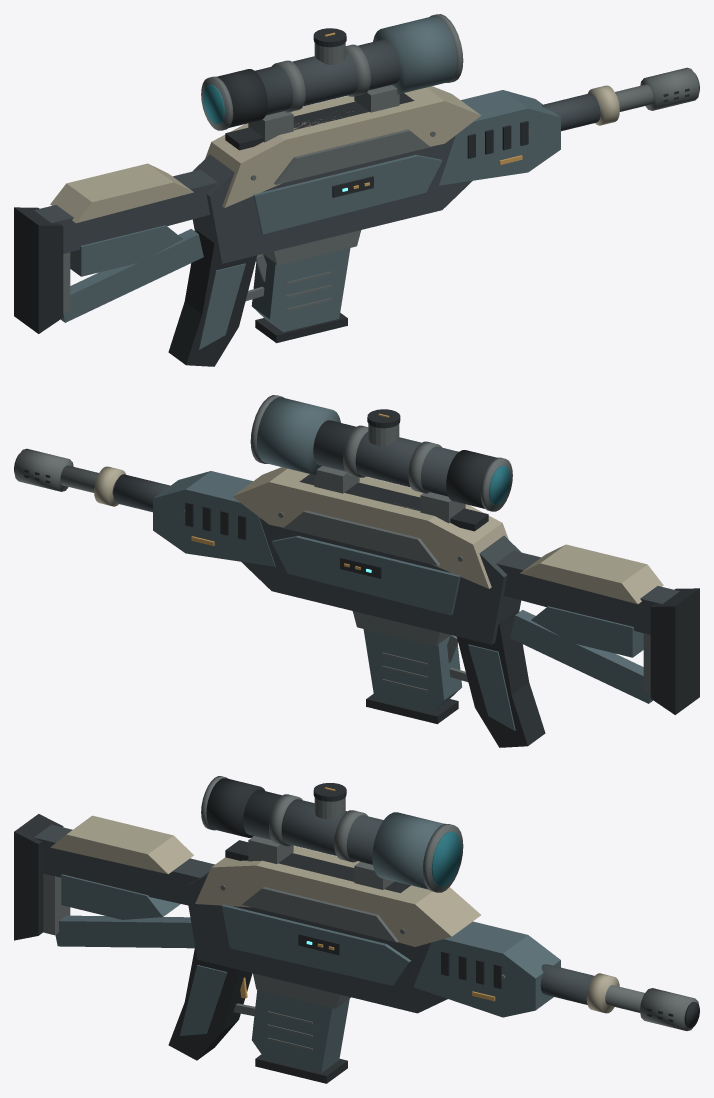
File: scifi_sniper_concept.glb
3 views of the same model, one above another, from view 1: azimuth 30°, elevation 25°; view 2: azimuth 150°, elevation 25°; view 3: azimuth 330°, elevation 25° (orthographic).
Visible parts, largest first — view 1: Upper armor / swept top, Chassis / primary receiver, Forward shroud, Receiver side panel -1, Butt pad, Magazine, Scope / central housing, Stock main beam, Pistol grip, Stock cheek rest, Scope / objective bell, Stock lower rail (+18 smaller); view 2: Upper armor / swept top, Chassis / primary receiver, Forward shroud, Receiver side panel 1, Butt pad, Magazine, Scope / central housing, Stock main beam, Pistol grip, Stock cheek rest, Scope / objective bell, Stock lower rail (+18 smaller); view 3: Upper armor / swept top, Forward shroud, Chassis / primary receiver, Receiver side panel -1, Magazine, Stock main beam, Scope / central housing, Stock cheek rest, Stock lower rail, Scope / objective bell, Butt pad, Angular cheek strip -1 (+21 smaller).
Boxes of the visible parts, x1,y1,x2,y2 form: Upper armor / swept top: [205, 86, 481, 207]; Chassis / primary receiver: [192, 136, 472, 263]; Forward shroud: [438, 90, 560, 185]; Receiver side panel -1: [253, 154, 442, 234]; Butt pad: [14, 207, 63, 333]; Magazine: [251, 248, 350, 332]; Scope / central housing: [255, 39, 400, 115]; Stock main beam: [34, 169, 217, 253]; Pistol grip: [168, 230, 257, 366]; Stock cheek rest: [50, 163, 193, 223]; Scope / objective bell: [373, 16, 456, 94]; Stock lower rail: [61, 229, 203, 322]; Upper armor / swept top: [232, 467, 508, 588]; Chassis / primary receiver: [241, 517, 521, 644]; Forward shroud: [153, 471, 275, 566]; Receiver side panel 1: [271, 535, 460, 615]; Butt pad: [650, 588, 699, 714]; Magazine: [363, 629, 462, 713]; Scope / central housing: [313, 420, 458, 496]; Stock main beam: [496, 550, 679, 634]; Pistol grip: [456, 611, 545, 747]; Stock cheek rest: [520, 544, 663, 604]; Scope / objective bell: [257, 397, 340, 475]; Stock lower rail: [510, 610, 652, 703]; Upper armor / swept top: [195, 846, 480, 946]; Forward shroud: [413, 921, 560, 1017]; Chassis / primary receiver: [185, 871, 447, 1013]; Receiver side panel -1: [222, 904, 410, 985]; Magazine: [251, 990, 349, 1073]; Stock main beam: [34, 824, 214, 905]; Scope / central housing: [243, 790, 383, 864]; Stock cheek rest: [50, 815, 193, 874]; Stock lower rail: [55, 915, 194, 948]; Scope / objective bell: [372, 812, 444, 889]; Butt pad: [14, 814, 63, 940]; Angular cheek strip -1: [242, 887, 398, 942].
Size of the model in its own units: 1.64 by 0.6935 by 0.155.
